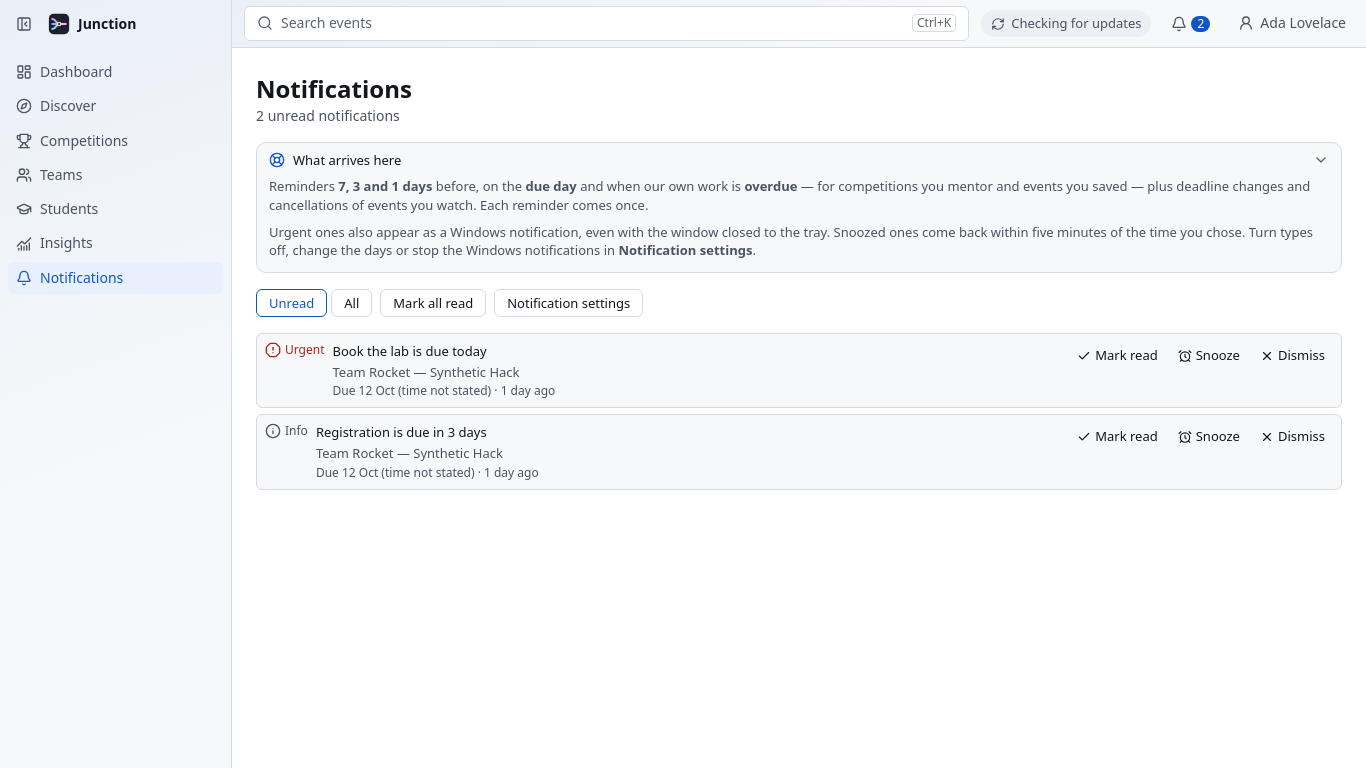
the Inbox › shows unread first, with severity in words; Mark read and Mark all read move the count
The width and height of the screenshot is (1366, 768).
Expected: the navigation bar named "Main" is shown, [0, 0, 231, 302]
Expected: the heading "Notifications" is shown, [256, 72, 412, 105]
Click the button with aria-label "Mark read: Registration is due in 3 days" at (1117, 437), box [1069, 423, 1166, 450]
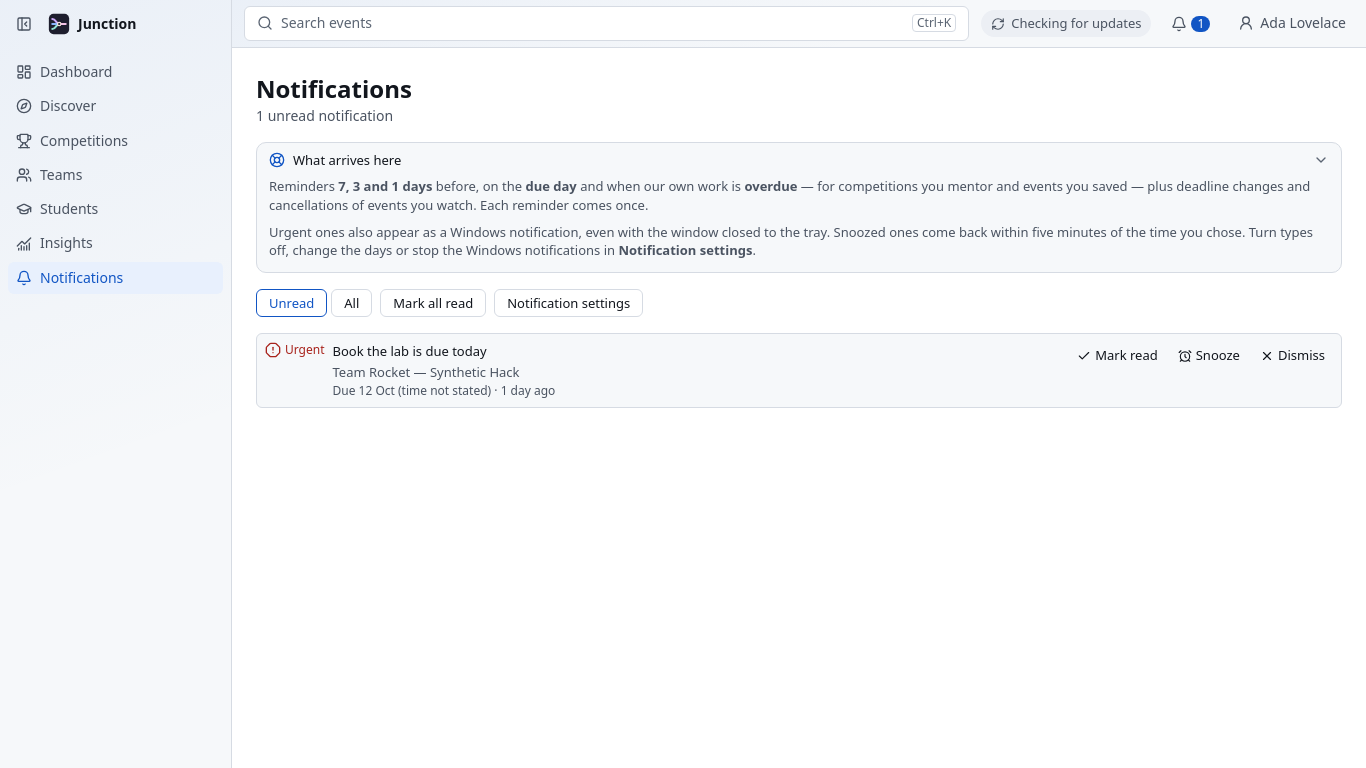
Expected: the text "1 unread notification" is shown, [256, 106, 393, 125]
Click the button "Mark all read" at (433, 303), box [380, 289, 486, 317]
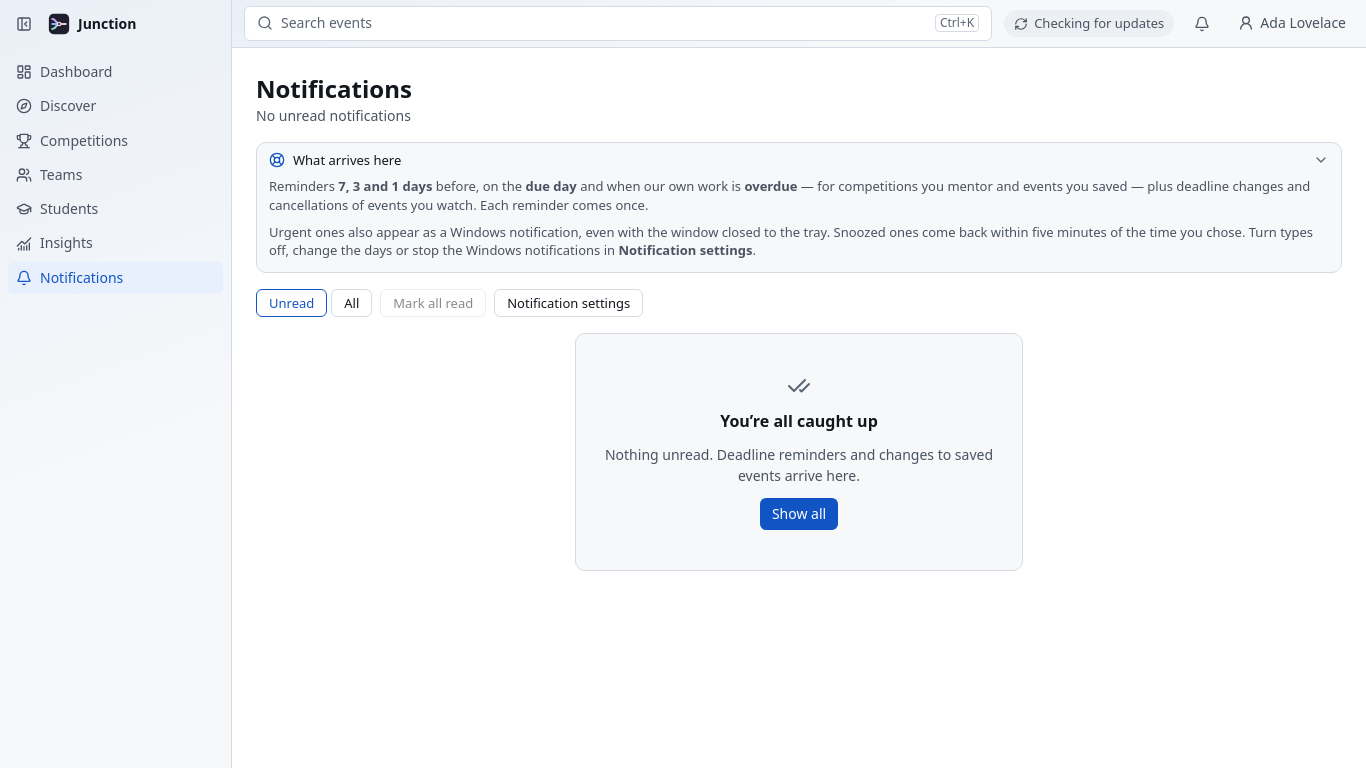
Expected: the heading "You’re all caught up" is shown, [720, 410, 878, 434]
Click the button "All" at (352, 303), box [331, 289, 372, 317]
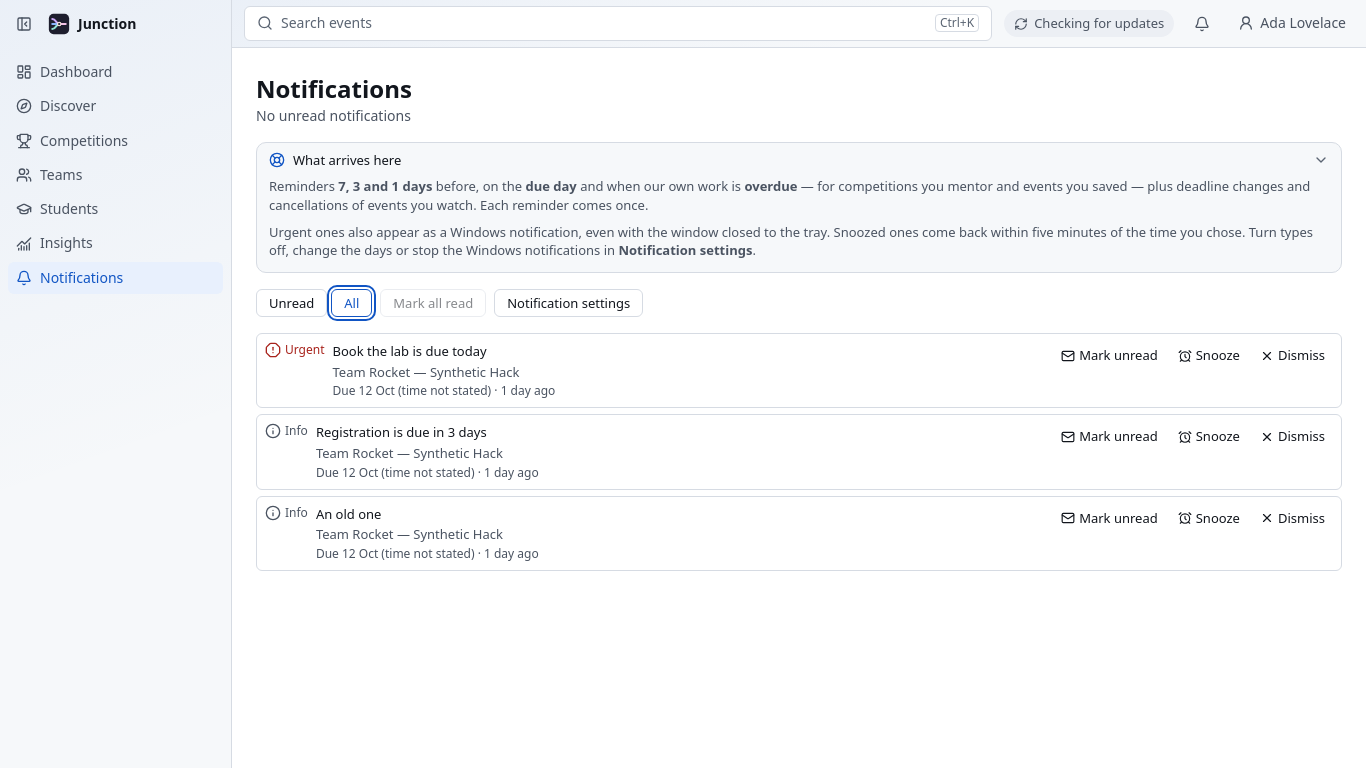
Expected: the number of list items with test id "notification" is 3, [256, 333, 1342, 408]; [256, 414, 1342, 490]; [256, 496, 1342, 571]
